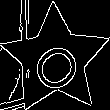O_NE: (24, 27, 88, 93)
